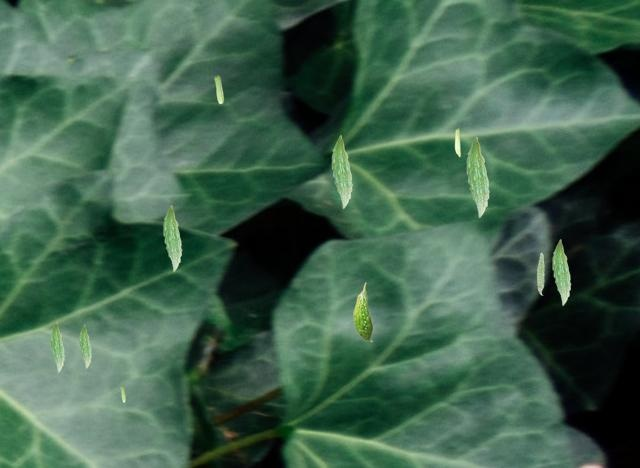ampalaya: (466, 136, 489, 218), (331, 134, 352, 209), (552, 239, 571, 306), (163, 205, 182, 272), (352, 282, 373, 342), (49, 321, 65, 373), (79, 324, 91, 369), (536, 252, 545, 296), (214, 75, 224, 104), (454, 127, 461, 157), (120, 385, 126, 402)
